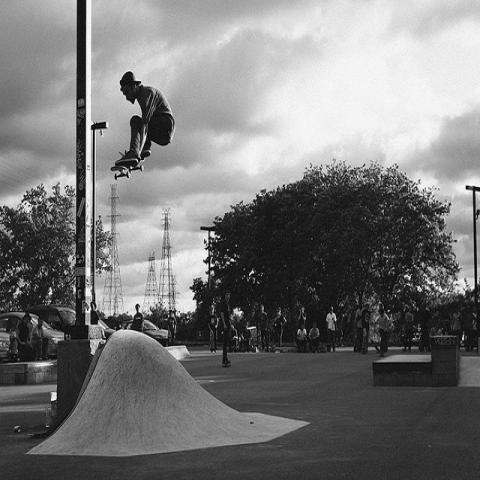car: (0, 311, 65, 356), (24, 304, 80, 340), (142, 318, 169, 348), (98, 318, 118, 340), (1, 332, 11, 362)
